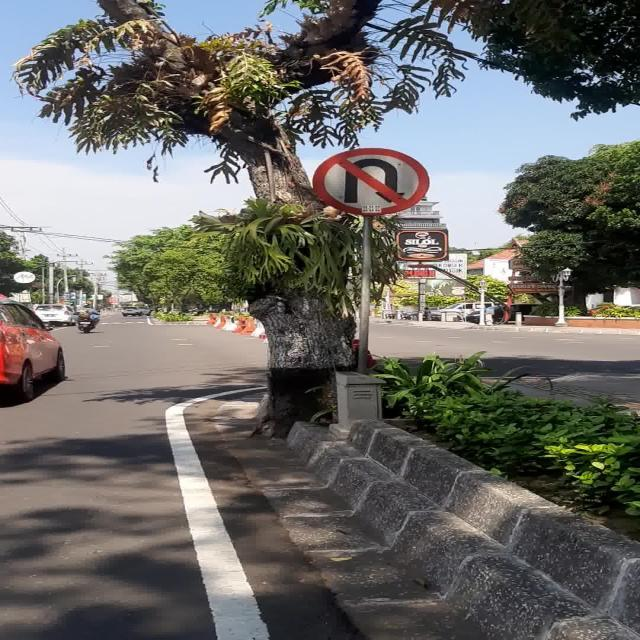Dilarang Putar Balik: (312, 147, 431, 215)
